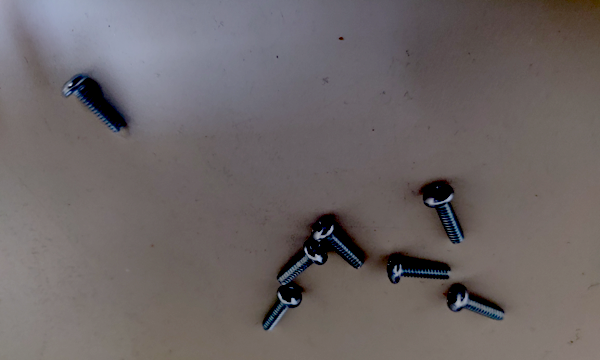shortscrew: (62, 72, 126, 134), (312, 218, 365, 270), (424, 185, 465, 244), (277, 240, 328, 286), (447, 286, 506, 322), (388, 255, 450, 285), (262, 286, 302, 332)
